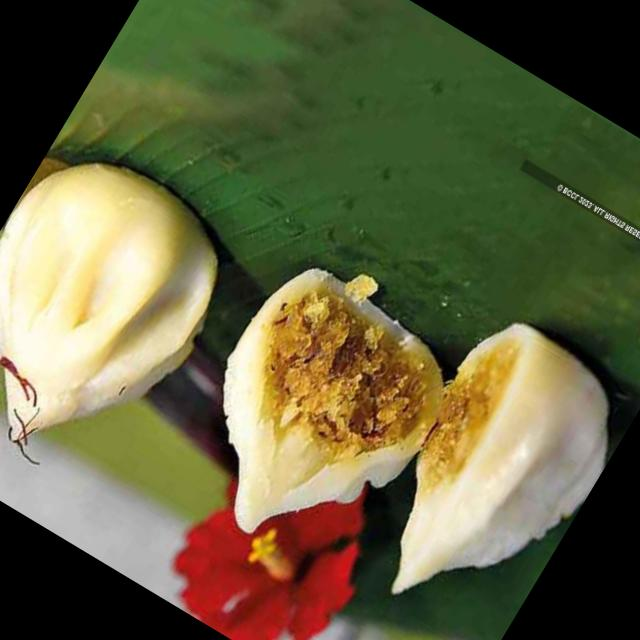modak: (234, 272, 572, 590), (0, 184, 223, 457)
